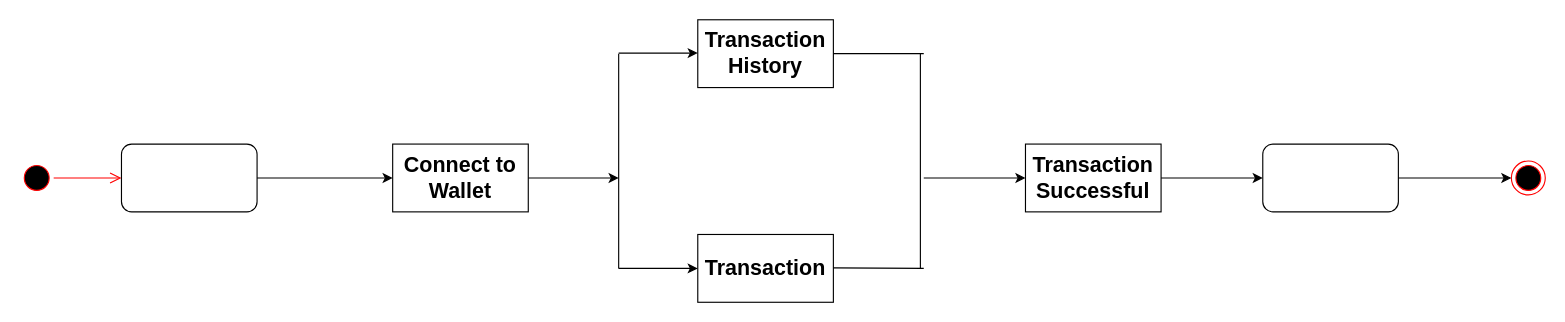
The diagram is 1565 pixels wide and 322 high, and some of its shapes have lost their labels. Here are the shapes that lost their labels. From the top down, the centre of each, then its label:
At (x=188, y=177): "Home Page".
At (x=1330, y=177): "Logout".
